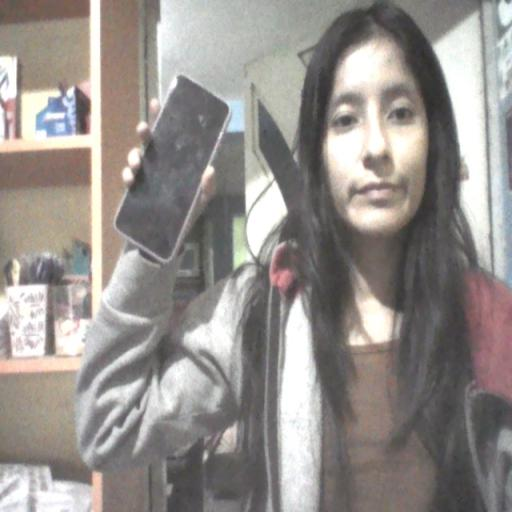phone: (164, 60, 235, 272)
